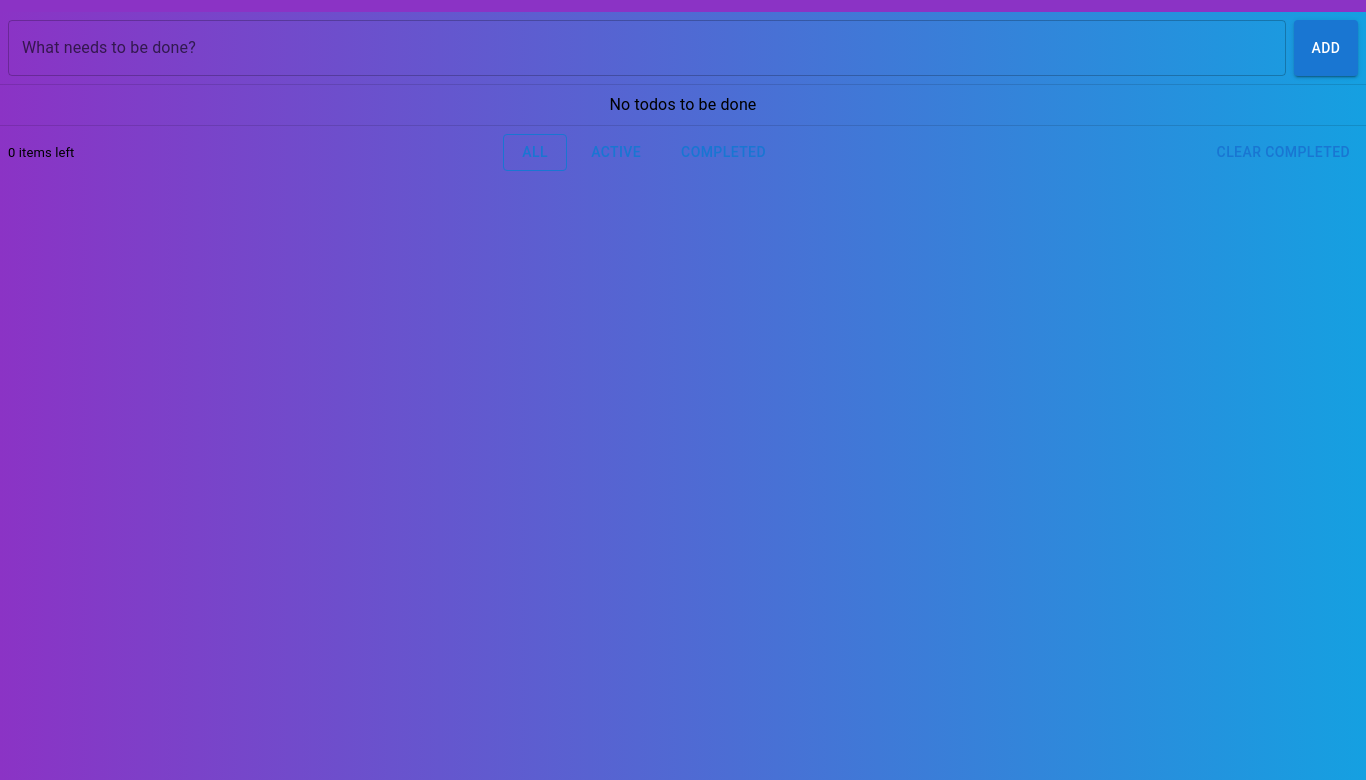
Test case: Todo list component › should add todo when the add button is clicked
The width and height of the screenshot is (1366, 780).
Type "New todo" into the field.
click(647, 48); type("New todo")  # box [8,20,1286,76]
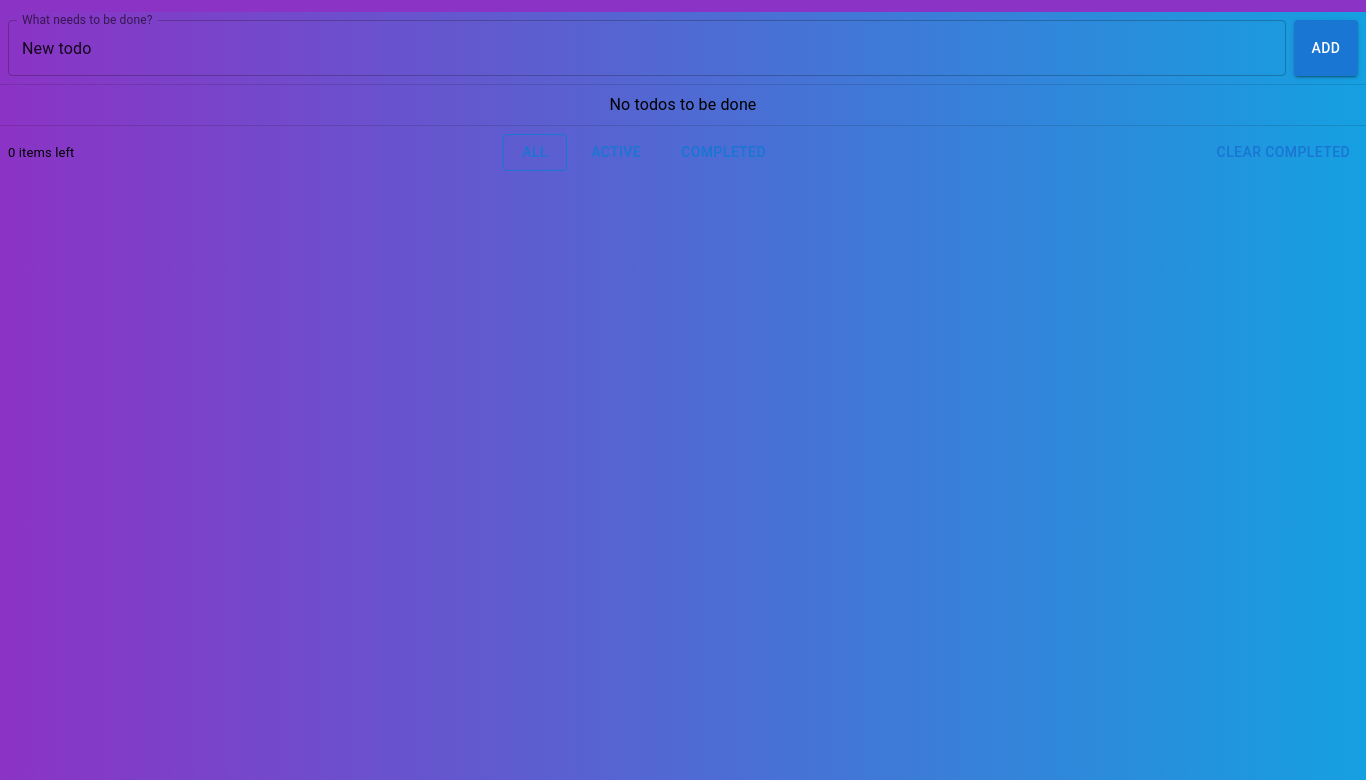
Click the button "Add".
click(1326, 48)  # box [1294,20,1358,76]
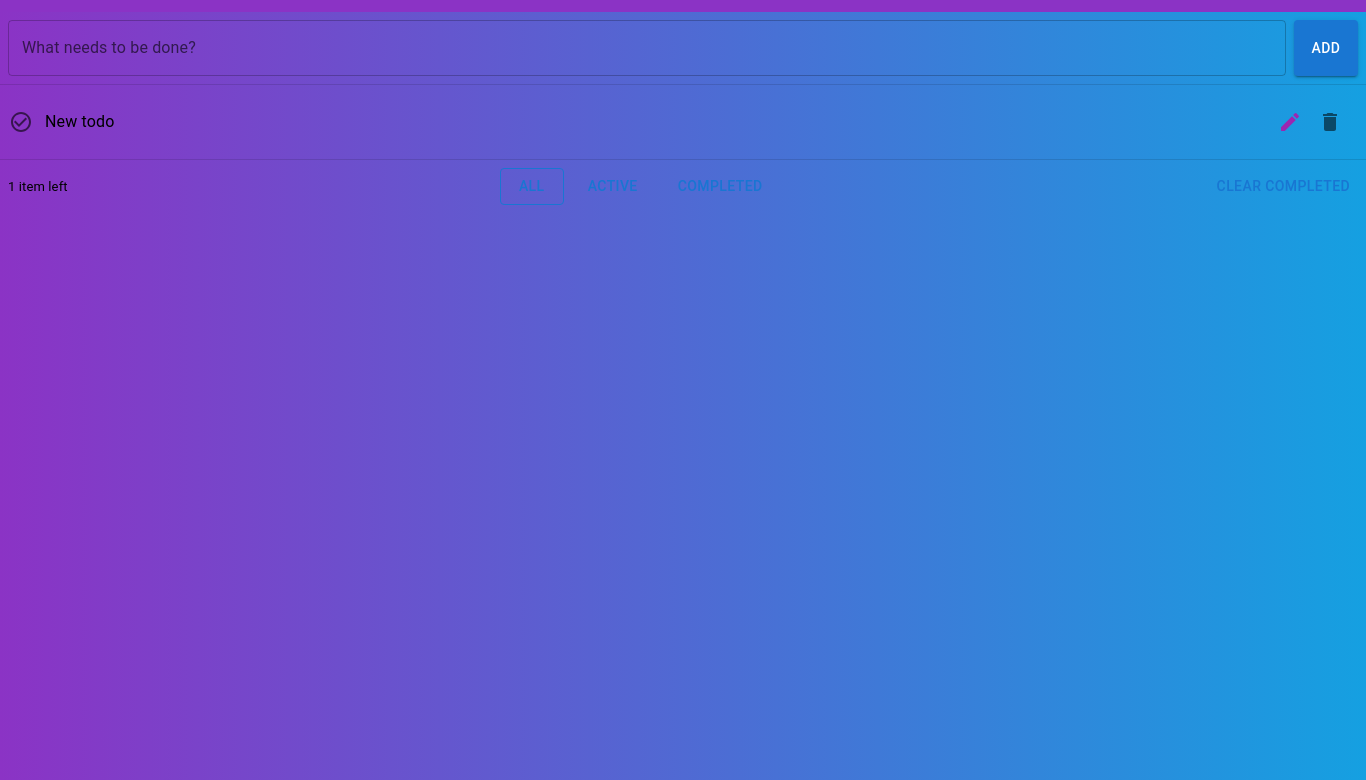
Check: the text "New todo" is shown, box [45,112,114,131]
